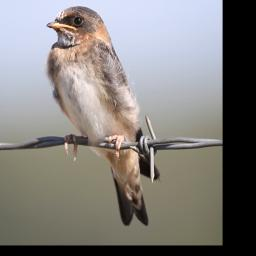Swallow: (44, 3, 161, 227)
